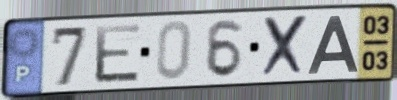0: (153, 18, 195, 84)
6: (203, 17, 246, 80)
7: (49, 25, 89, 88)
A: (305, 14, 361, 76)
E: (93, 21, 144, 86)
X: (260, 13, 311, 80)
